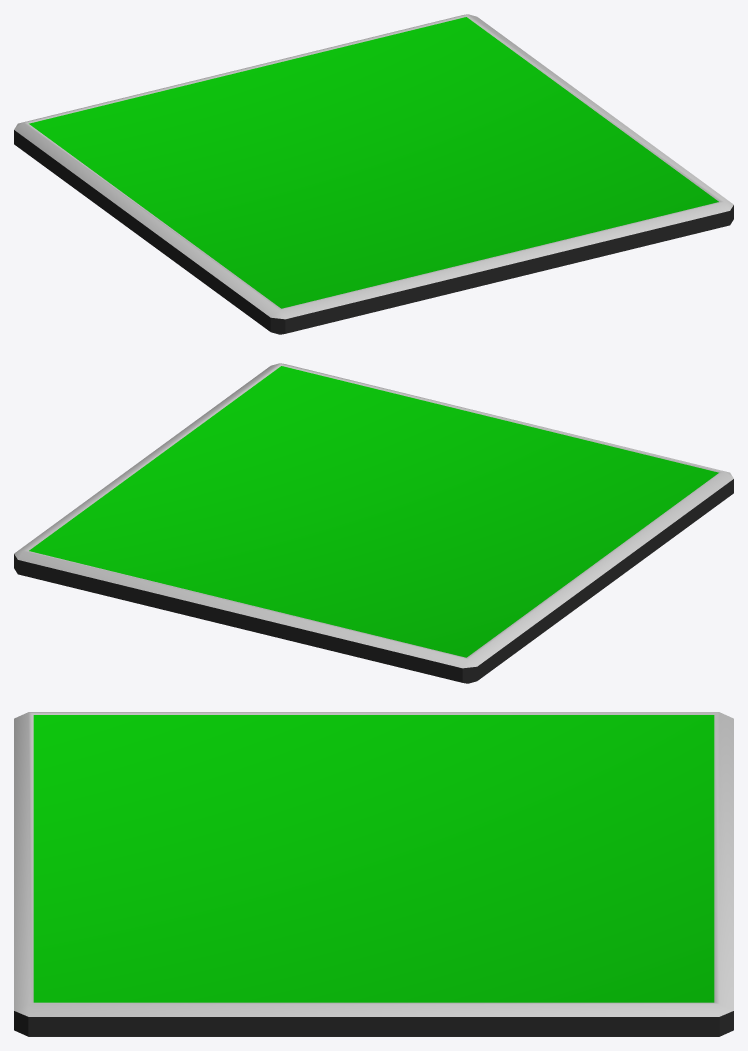
Rendered from Tile.fbx.
3 views of the same model, one above another, from view 1: azimuth 30°, elevation 25°; view 2: azimuth 150°, elevation 25°; view 3: azimuth 270°, elevation 25° (orthographic). The views are drawn at different scales.
Parts seen in each view (by area): view 1: Mesh; view 2: Mesh; view 3: Mesh.
Part boxes in pixels (<box>): Mesh: <box>14,14,733,334</box>; Mesh: <box>14,363,733,683</box>; Mesh: <box>14,712,733,1036</box>.
Size of the model in its own units: 200 by 10 by 200.
